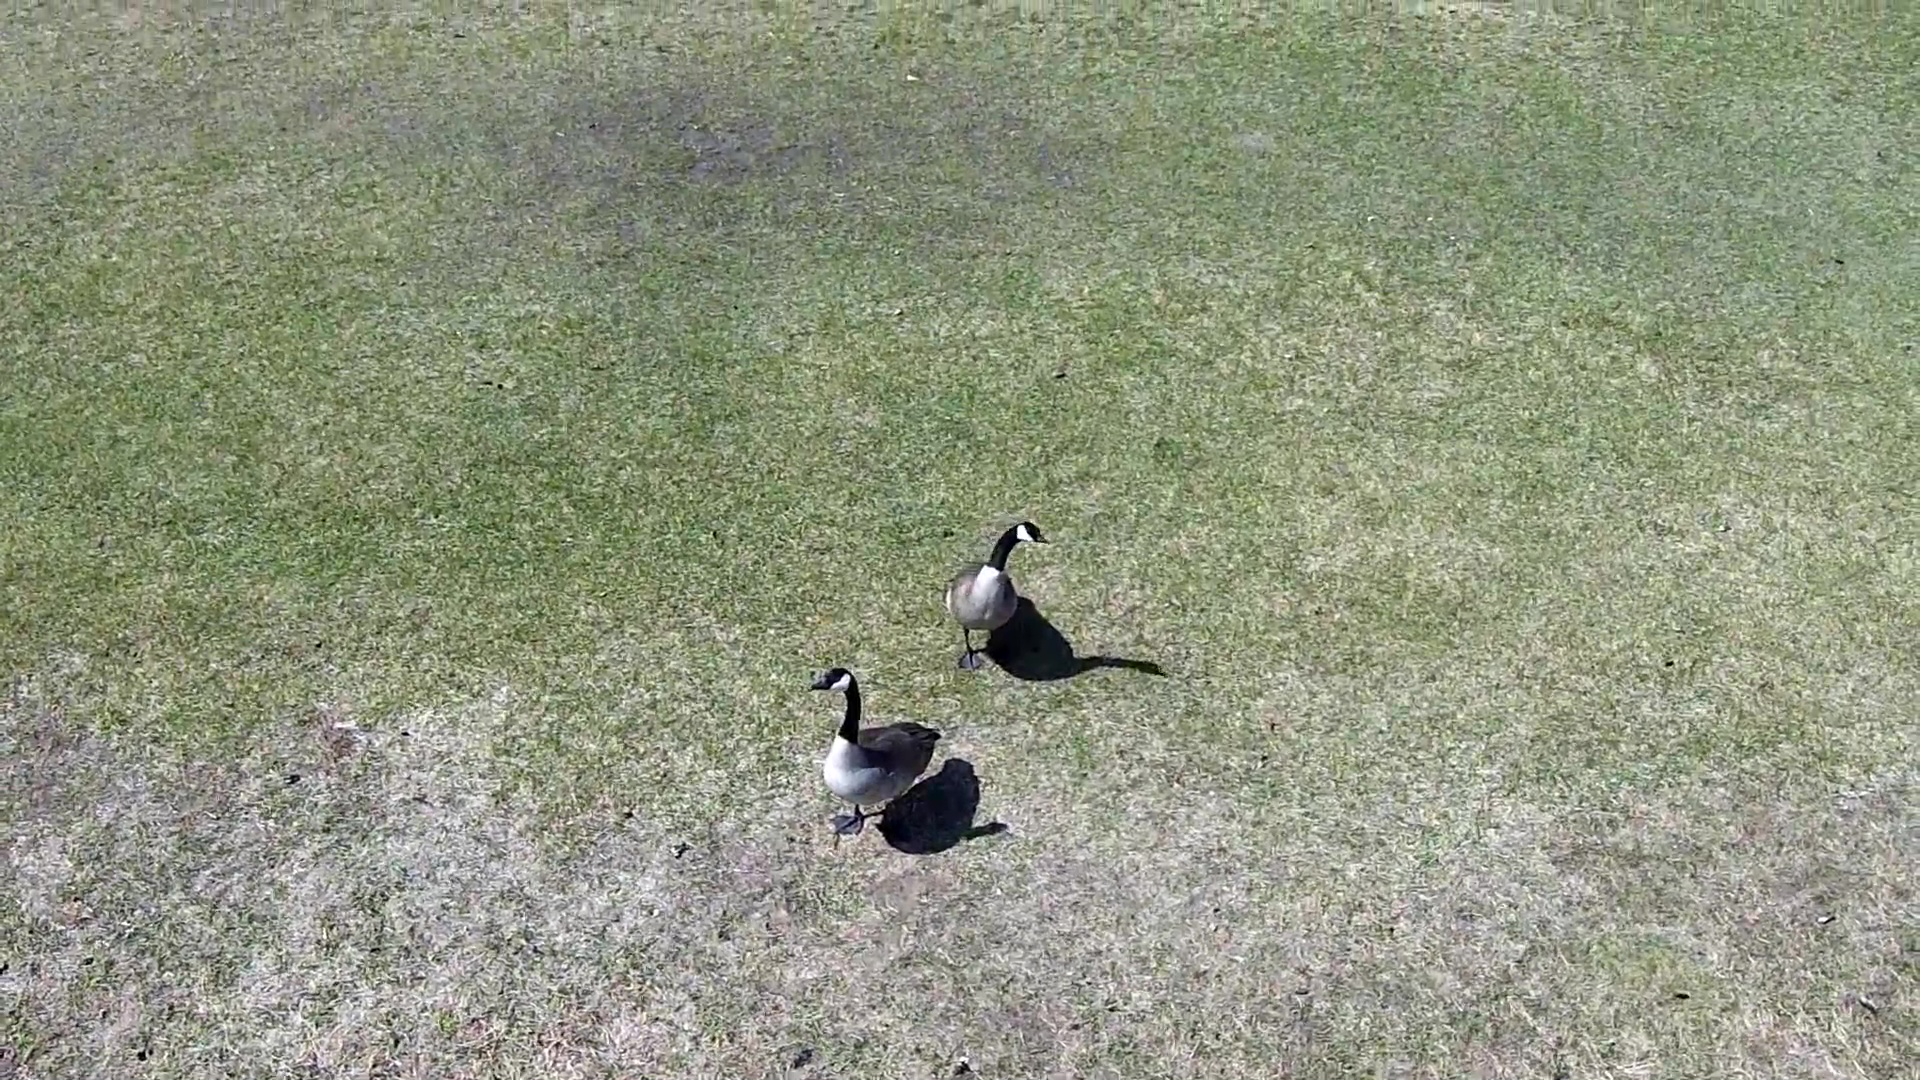goose: (808, 666, 942, 844), (927, 521, 1048, 675)
